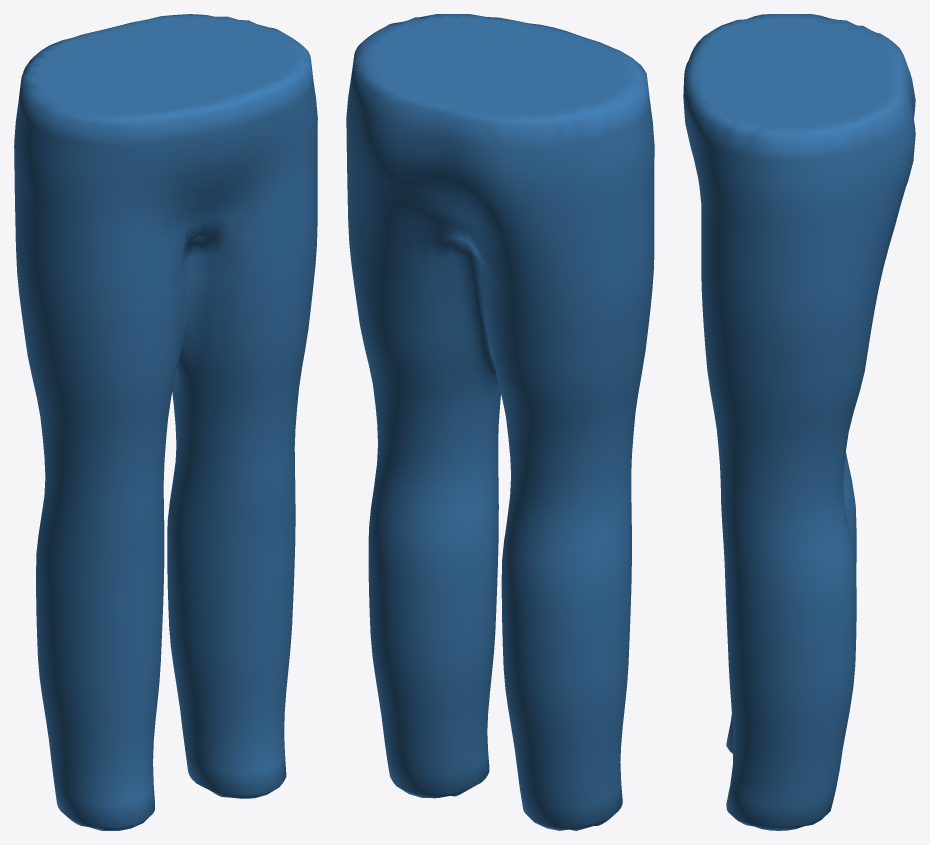
The model's file is male-trousers-Mavi.glb.
3 renders of one model, left to right at view 1: azimuth 30°, elevation 25°; view 2: azimuth 150°, elevation 25°; view 3: azimuth 270°, elevation 25°, orthographic. The views are drawn at different scales.
Visible parts, largest first — view 1: worn-bottom; view 2: worn-bottom; view 3: worn-bottom.
Part boxes in pixels (x1=…): worn-bottom: x1=14, y1=14, x2=317, y2=830; worn-bottom: x1=346, y1=14, x2=654, y2=830; worn-bottom: x1=683, y1=14, x2=915, y2=830.
Size of the model in its own units: 0.436 by 1.09 by 0.3227.
